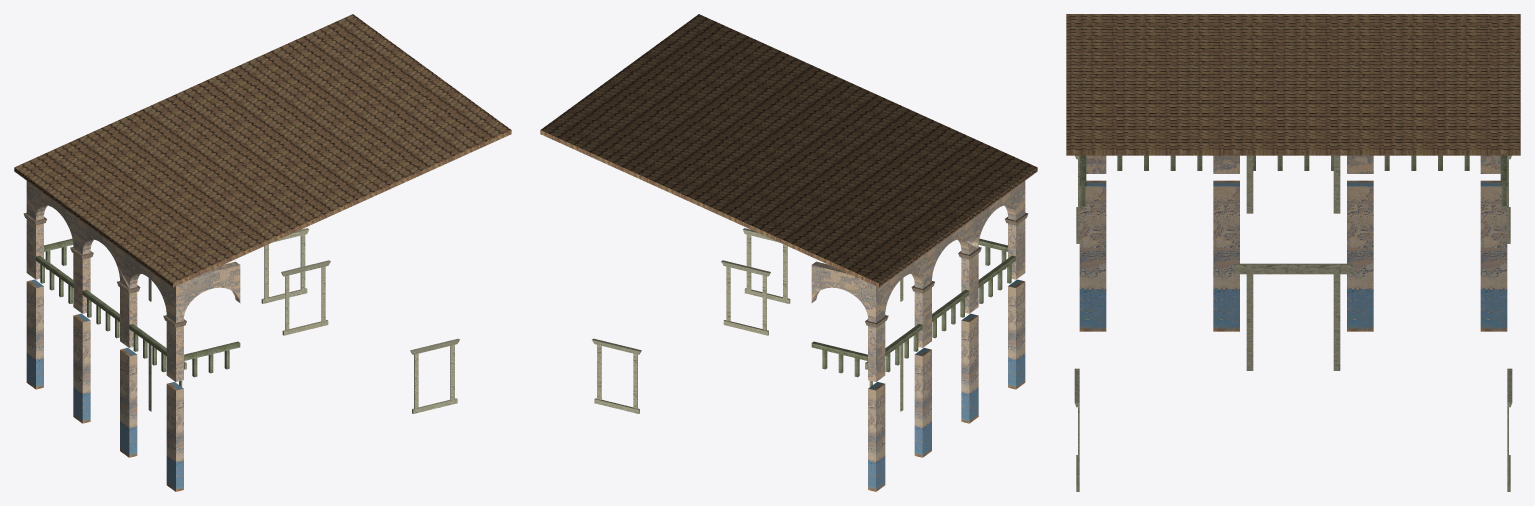
3 views of the same model, side by side, from view 1: azimuth 30°, elevation 25°; view 2: azimuth 150°, elevation 25°; view 3: azimuth 270°, elevation 25° (orthographic). The views are drawn at different scales.
Visible parts, largest first — view 1: test15; view 2: test15; view 3: test15.
Part boxes in pixels (<box>): test15: <box>14,14,511,491</box>; test15: <box>540,14,1037,491</box>; test15: <box>1066,14,1520,491</box>.
Bounding box in the file's own units: 67101 × 53900 × 54400.
